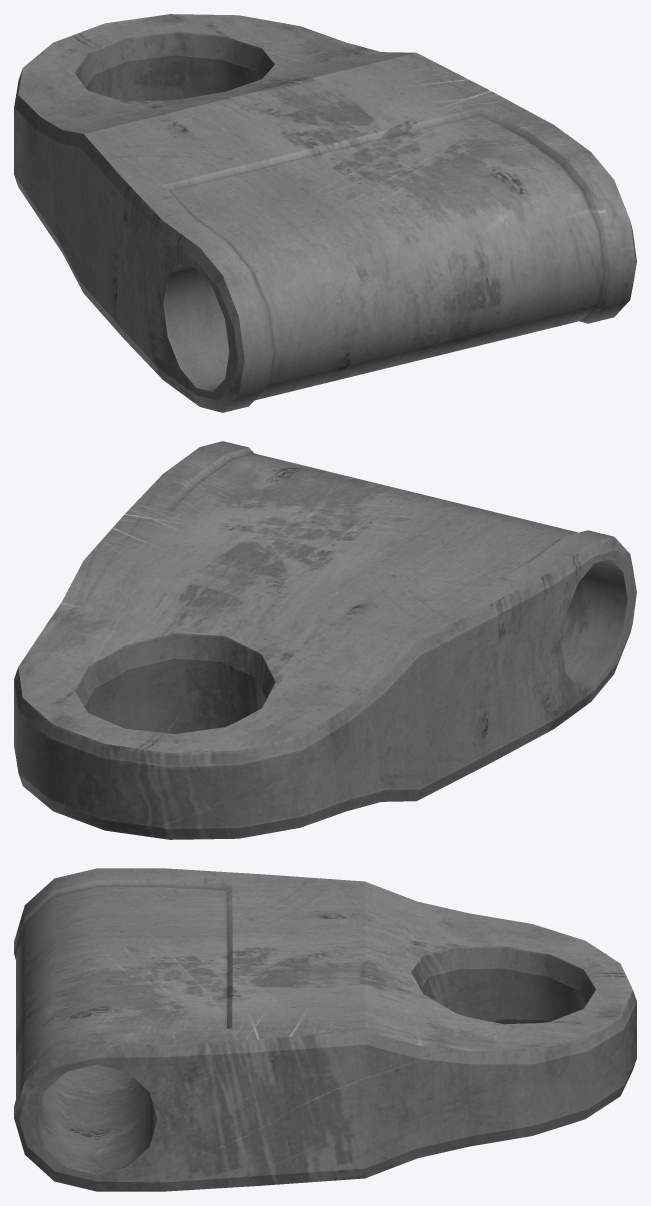
The model's file is seguro.fbx.
The picture shows the model from 3 angles, top to bottom: view 1: azimuth 30°, elevation 25°; view 2: azimuth 150°, elevation 25°; view 3: azimuth 270°, elevation 25°; orthographic projection. The views are drawn at different scales.
Parts seen in each view (by area): view 1: seguro; view 2: seguro; view 3: seguro.
Part boxes in pixels (left/top/right/bottom): seguro: left=14, top=14, right=636, bottom=412; seguro: left=14, top=441, right=636, bottom=839; seguro: left=14, top=868, right=636, bottom=1191.
Size of the model in its own units: 108 by 41.34 by 159.
1 material, 1 textured.
